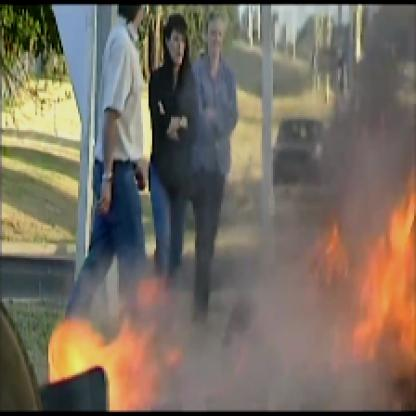Fire: (48, 177, 414, 414)
